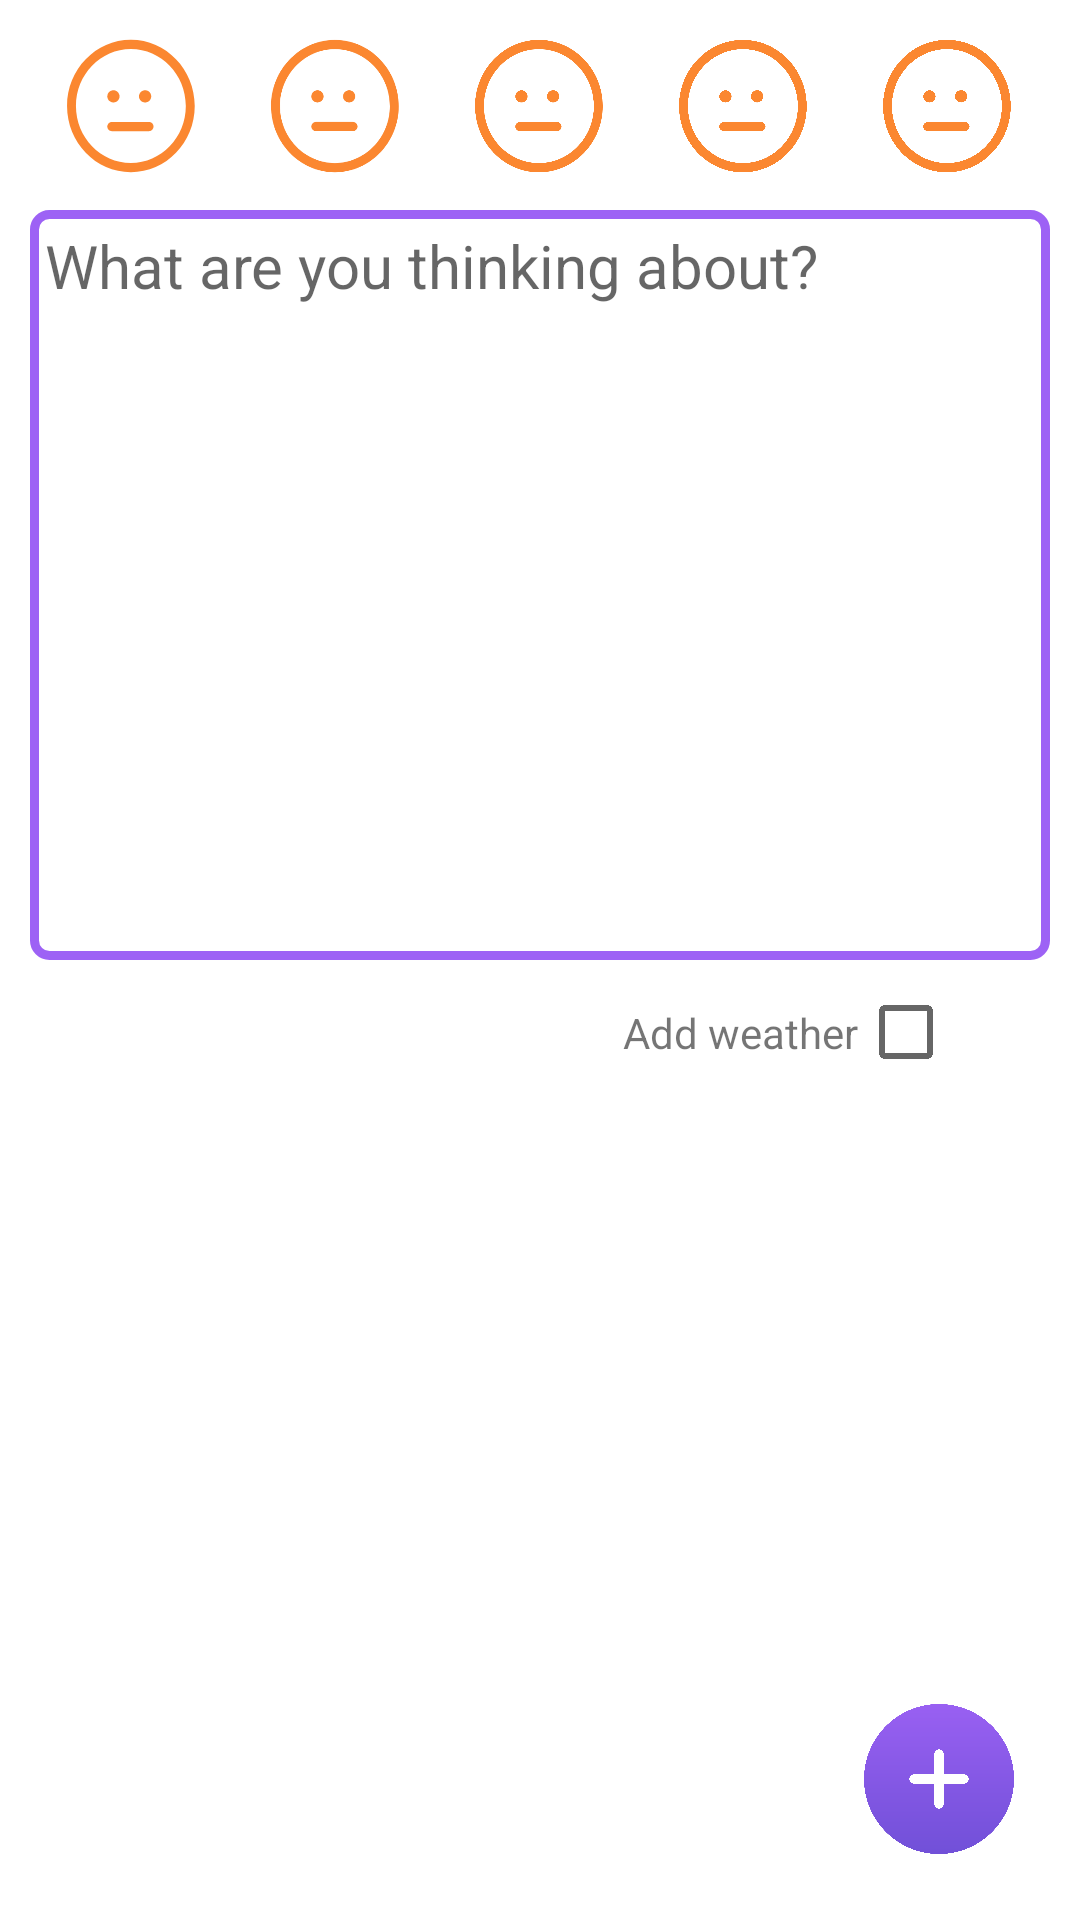

Where icons sit on this 1080px×1920px app screen, as (x1, y1, x2, y2):
add: (864, 1704, 1014, 1854)
neutral emotion: (67, 39, 195, 173), (271, 40, 399, 173), (475, 40, 603, 172), (679, 40, 807, 172), (883, 40, 1011, 172)
